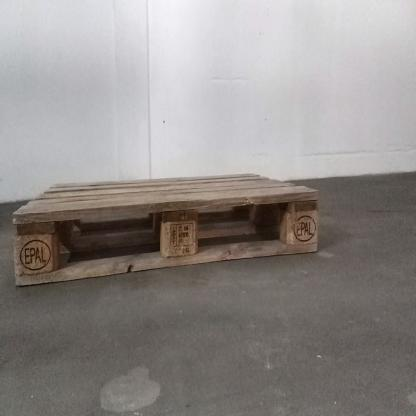BoxFace: (10, 167, 320, 294)
